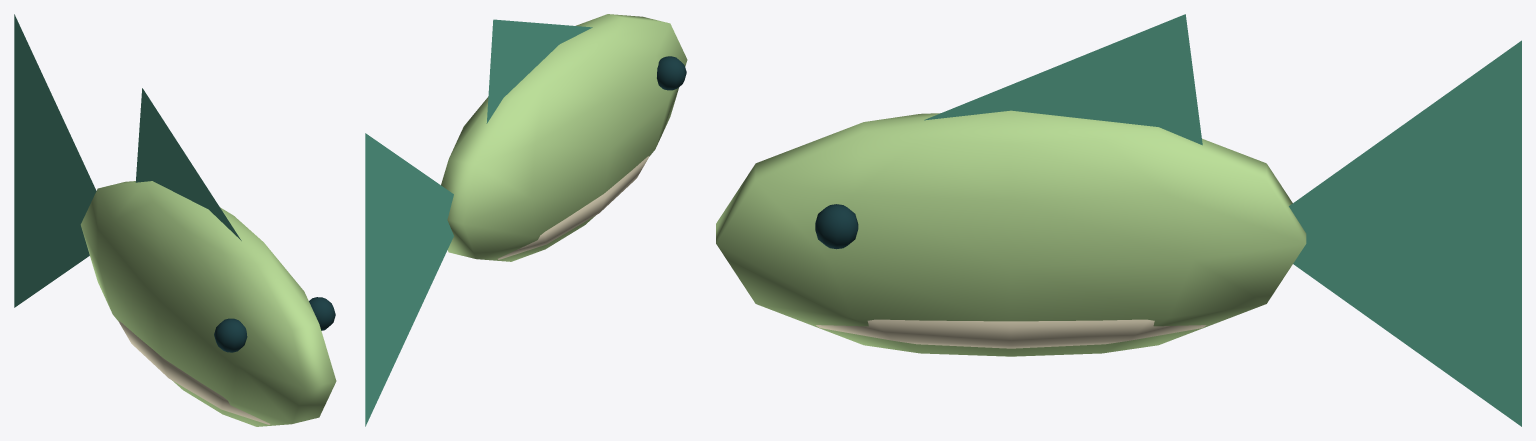
The model's file is ocean-fish-2.glb.
The picture shows the model from 3 angles, left to right: view 1: azimuth 30°, elevation 25°; view 2: azimuth 150°, elevation 25°; view 3: azimuth 270°, elevation 25°; orthographic projection. The views are drawn at different scales.
Parts seen in each view (by area): view 1: object 1, Tail, object 3, object 4, object 5, object 6; view 2: object 1, Tail, object 3, object 4, object 5; view 3: object 1, Tail, object 3, object 4, object 6.
Boxes of the visible parts, <box> form: object 1: <box>80,181,336,426</box>; Tail: <box>14,14,96,307</box>; object 3: <box>135,88,241,240</box>; object 4: <box>119,321,270,424</box>; object 5: <box>214,318,247,352</box>; object 6: <box>309,297,335,330</box>; object 1: <box>441,14,687,261</box>; Tail: <box>365,133,453,426</box>; object 3: <box>486,19,592,123</box>; object 4: <box>498,156,649,259</box>; object 5: <box>657,56,686,90</box>; object 1: <box>716,110,1306,356</box>; Tail: <box>1289,40,1521,426</box>; object 3: <box>924,14,1202,145</box>; object 4: <box>816,319,1206,348</box>; object 6: <box>815,204,858,249</box>.
Size of the model in its own units: 0.276 by 0.705 by 1.25.
